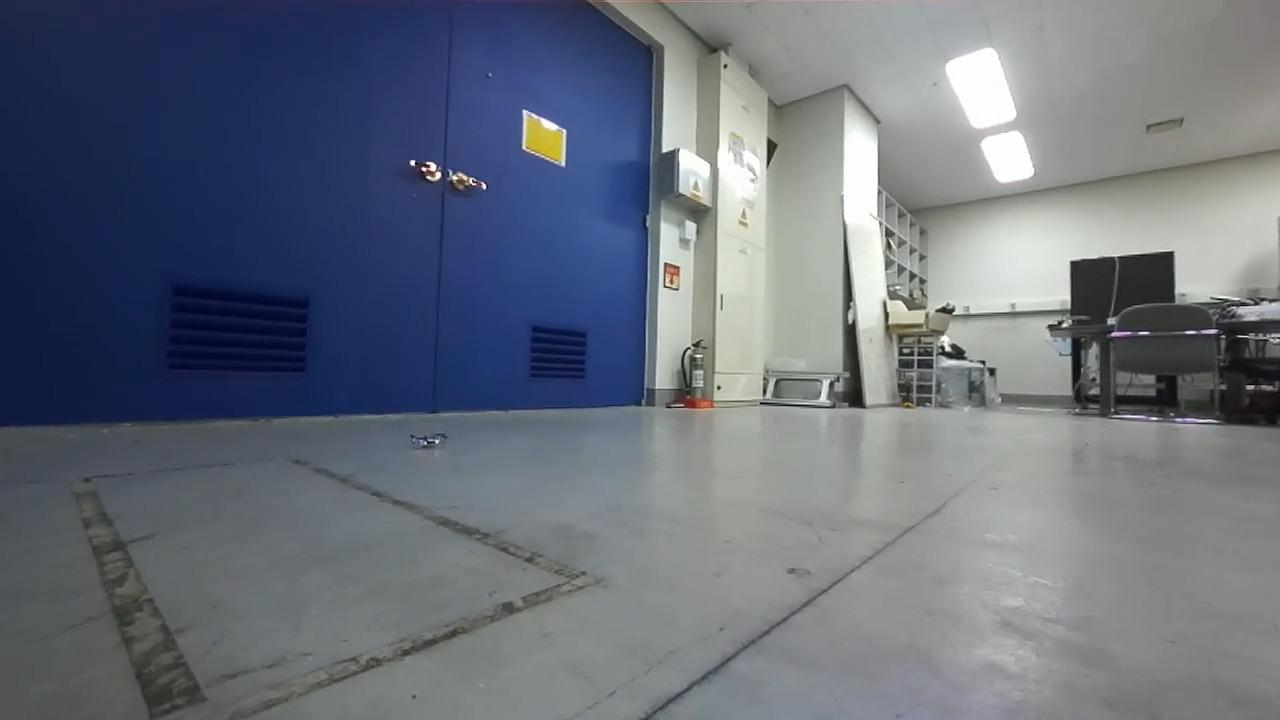crazyflie: (402, 427, 454, 453)
